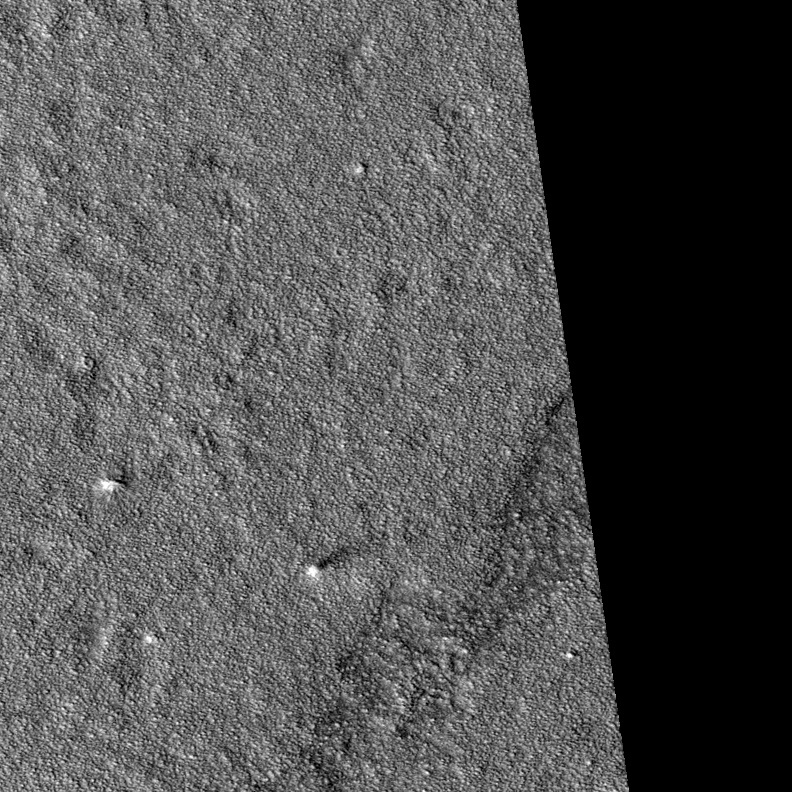dust_devil: (306, 549, 344, 576)
